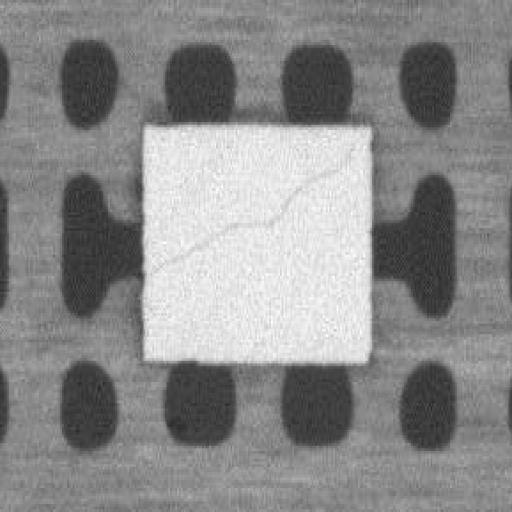DIE_CRACK: (149, 143, 354, 273)
